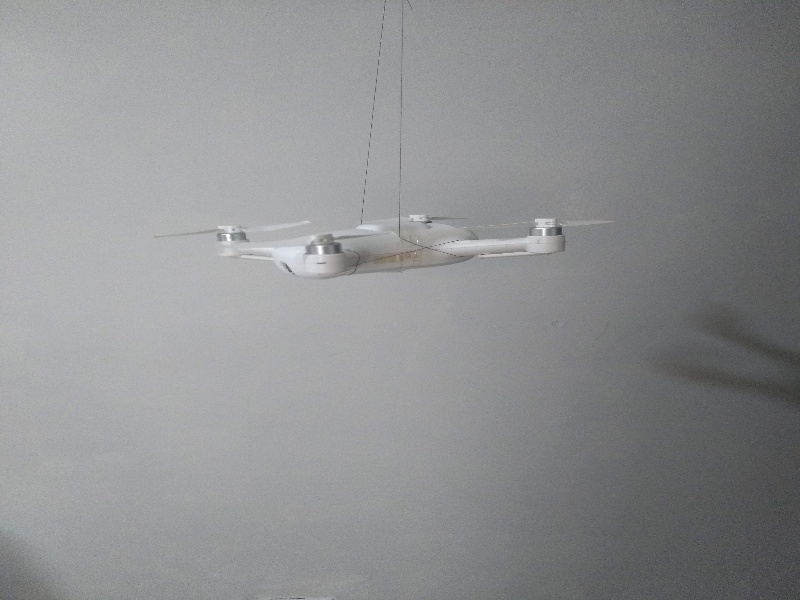drone: (183, 176, 586, 300)
